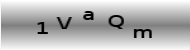1: (35, 21, 48, 34)
Q: (107, 14, 124, 29)
V: (55, 15, 72, 29)
a: (82, 10, 94, 20)
m: (132, 28, 152, 38)
